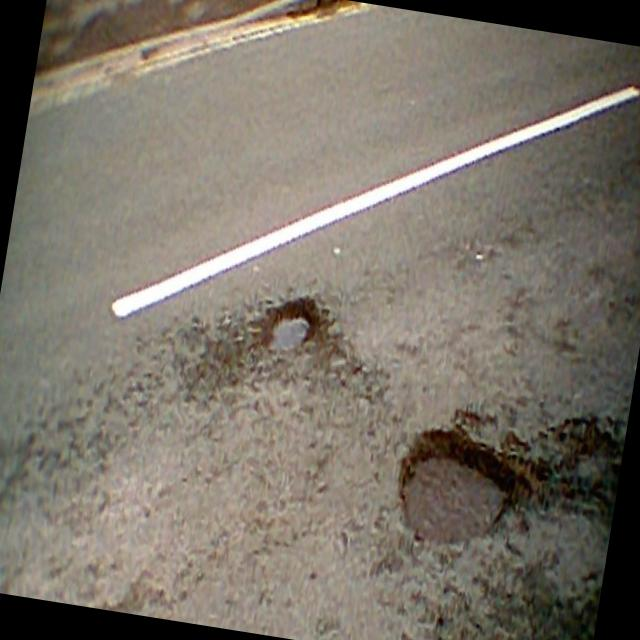Potholes: (368, 396, 536, 580), (242, 241, 344, 384)
